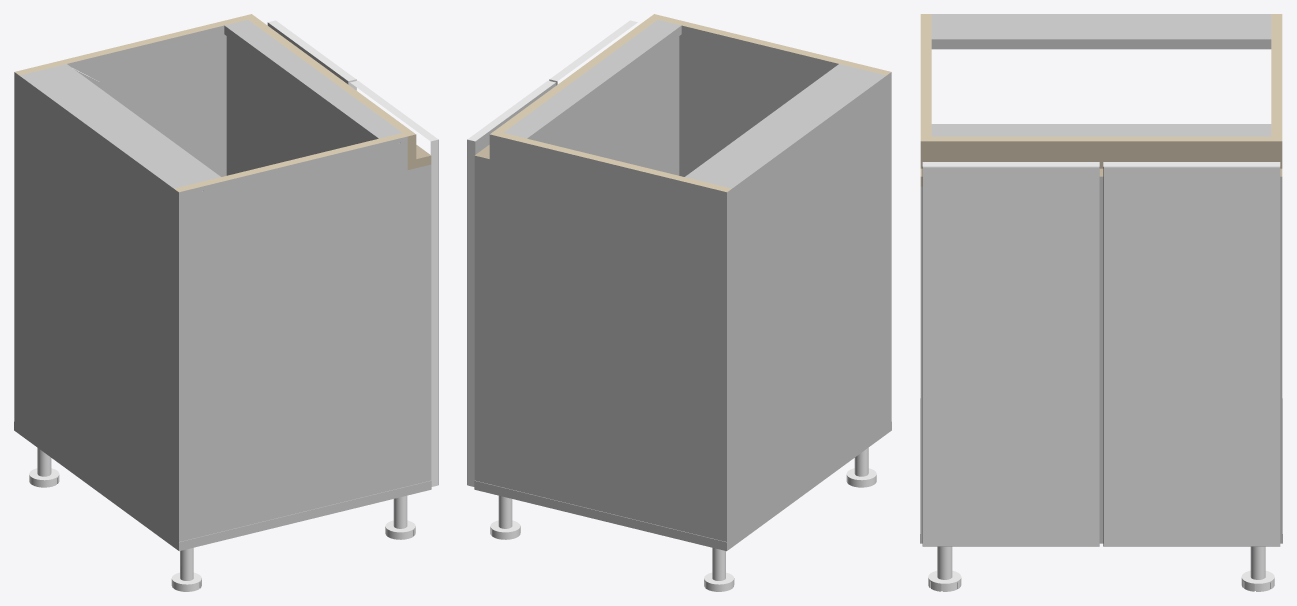
The picture shows the model from 3 angles, left to right: view 1: azimuth 30°, elevation 25°; view 2: azimuth 150°, elevation 25°; view 3: azimuth 270°, elevation 25°; orthographic projection. The views are drawn at different scales.
Parts seen in each view (by area): view 1: Group1; view 2: Group1; view 3: Group1.
Boxes of the visible parts, x1,y1,x2,y2 form: Group1: [14, 14, 438, 591]; Group1: [467, 14, 891, 591]; Group1: [920, 14, 1282, 591].
Size of the model in its own units: 550 by 817 by 602.
